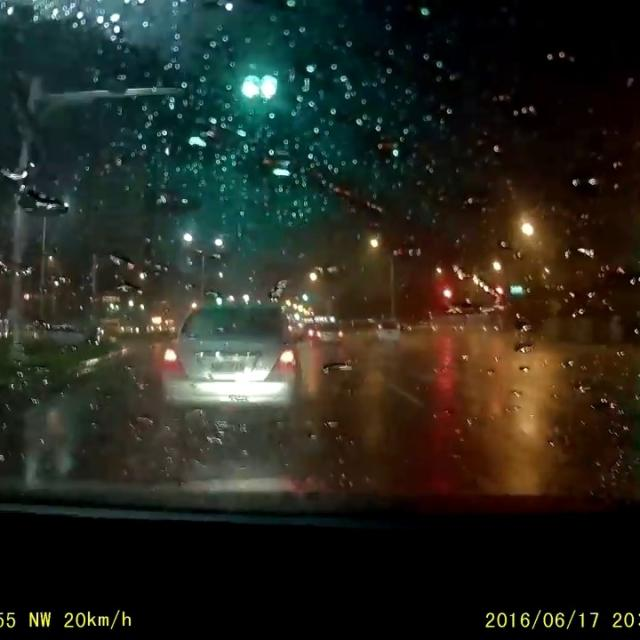Car: (161, 306, 298, 416), (312, 321, 340, 343), (375, 317, 400, 341)
